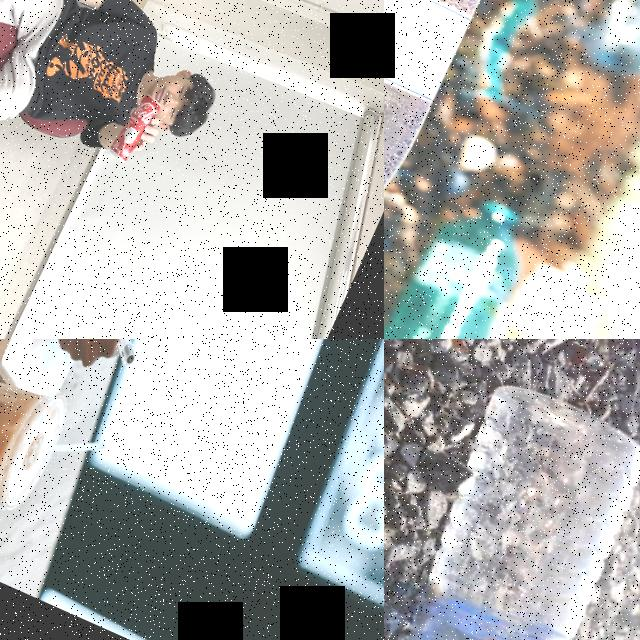bottle: (384, 369, 640, 640)
can: (105, 88, 164, 169)
cup: (0, 351, 75, 522)
